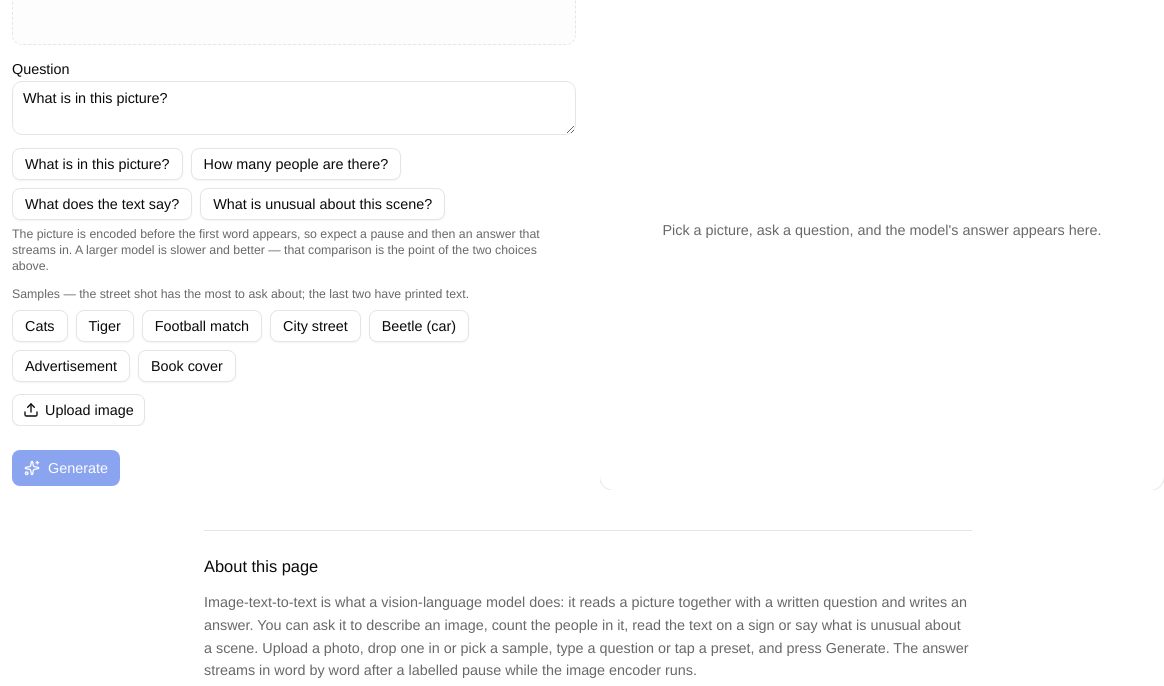
it: ImageTextToTextPage — nothing runs until asked › a preset fills the box and runs nothing
The image size is (1164, 686).
(page scrolled)
Click the button "Tiger". click: (105, 326)
box: [76,310,134,342]
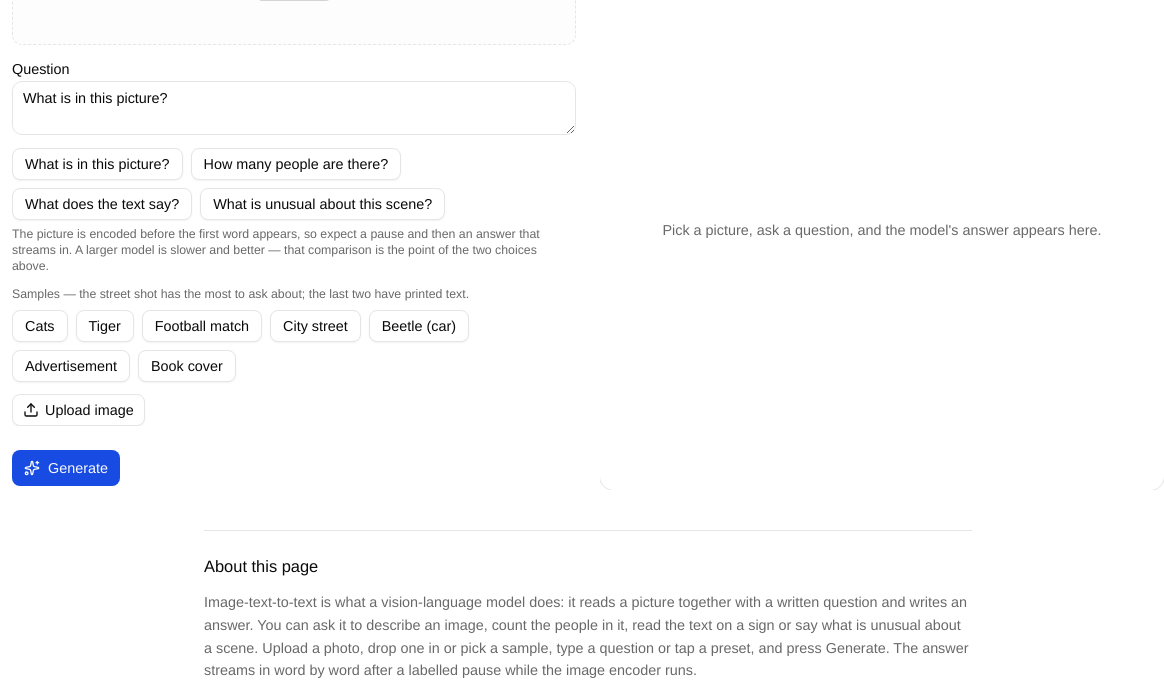
Now the button "Generate" is enabled, box [12,450,120,486]
Click the button "How many people are there?". click: (296, 164)
box: [191,148,401,180]
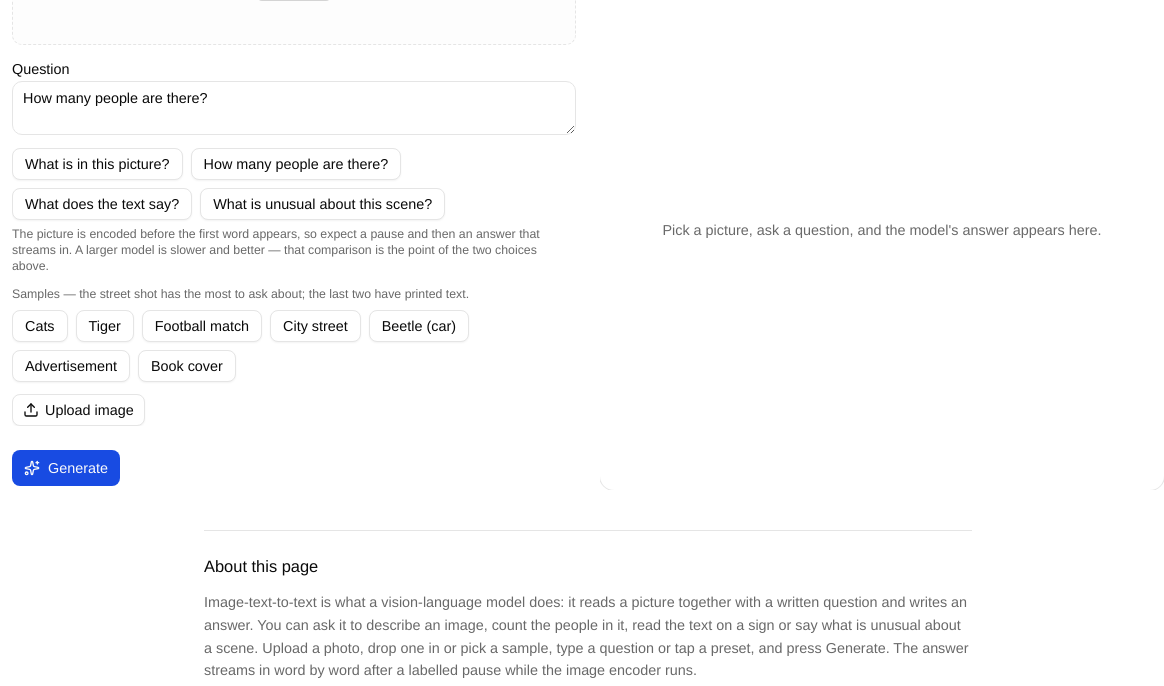
Now the text box with test id "prompt-input" holds "How many people are there?", box [12,81,576,135]
